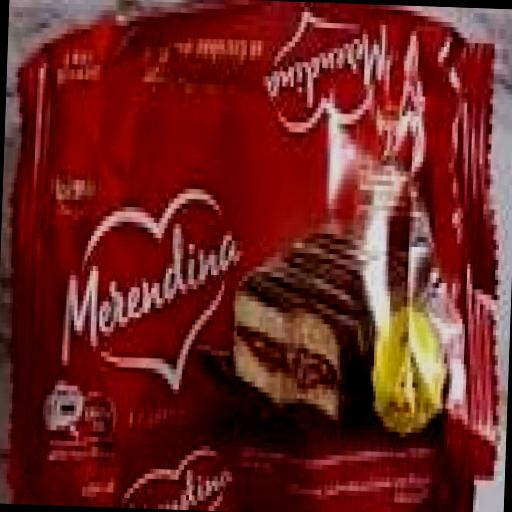merendina: (0, 11, 512, 474)
